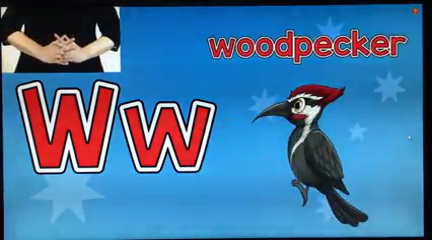W: (31, 27, 97, 69)
